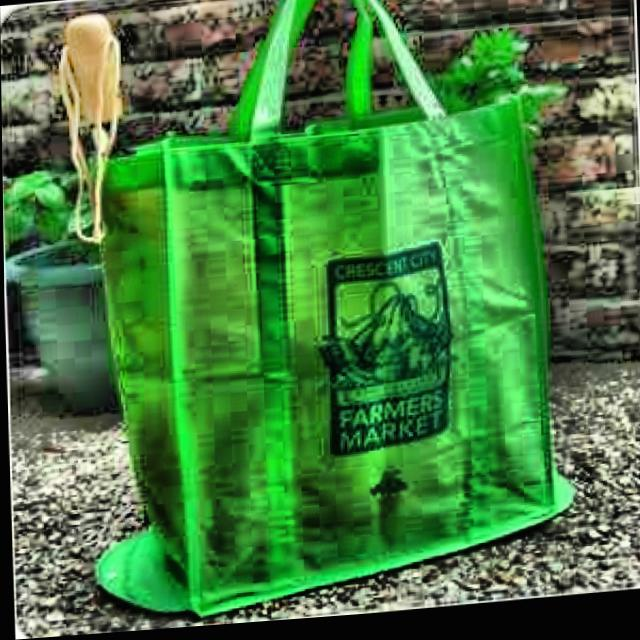Plastic: (42, 0, 620, 621)
